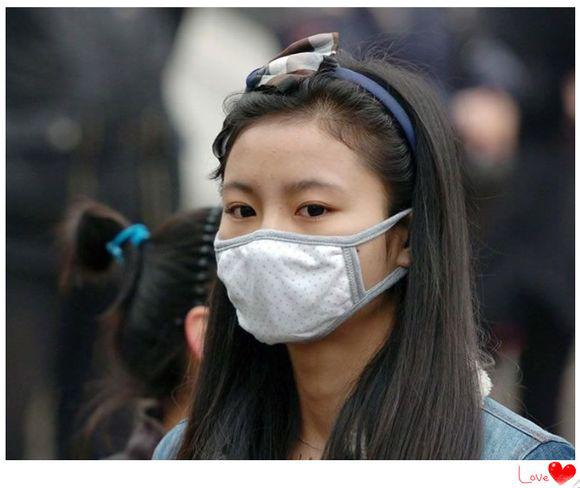OK: (215, 171, 377, 335)
